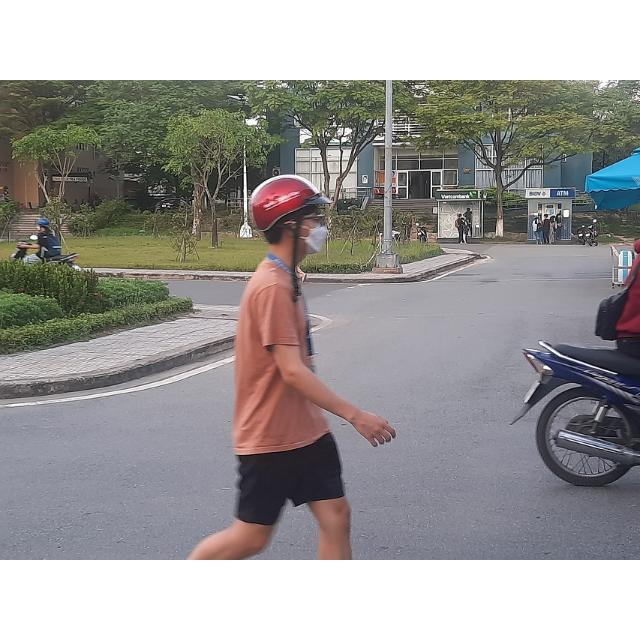Helmet: (247, 174, 335, 260)
